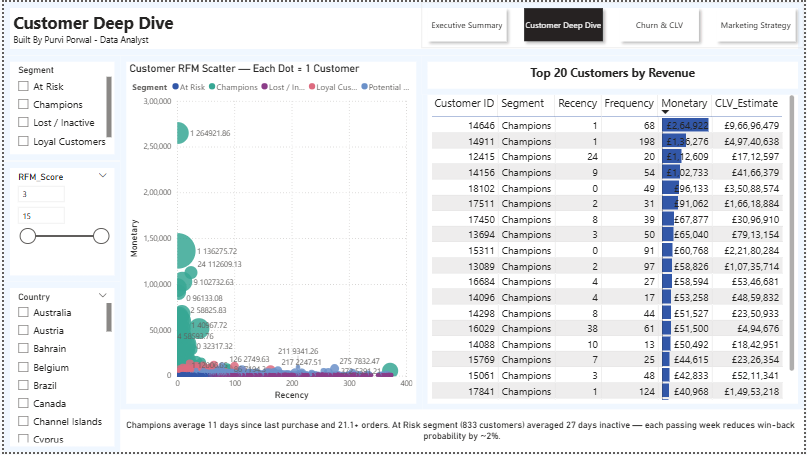

What the dashboard file says about the page in this screenshot:
{"tool":"powerbi","page":{"name":"Customer Deep Dive","canvas":[1280,720],"ordinal":1},"visuals":[{"type":"slicer","fields":{"Values":["Customer_RFM.Segment"]},"box":[0,85,186.2,167.5],"z":0},{"type":"slicer","fields":{"Values":["Customer_RFM.Country"]},"box":[0,447.5,186.2,272.5],"z":1000},{"type":"tableEx","fields":{"Values":["Customer_RFM.Customer ID","Customer_RFM.Segment","Customer_RFM.Recency","Customer_RFM.Frequency","Customer_RFM.Monetary","Customer_RFM.CLV_Estimate"]},"box":[668,134,612,518],"z":2000},{"type":"scatterChart","title":"Customer RFM Scatter — Each Dot = 1 Customer","fields":{"X":["Customer_RFM.Recency"],"Y":["Customer_RFM.Monetary"],"Series":["Customer_RFM.Segment"],"Size":["Avg(Customer_RFM.Frequency)"]},"box":[185.9,85.6,483,566.2],"z":3000},{"type":"slicer","fields":{"Values":["Customer_RFM.RFM_Score"]},"box":[0,256.2,186.2,191.2],"z":4000},{"type":"textbox","box":[668,86,612,62],"z":5000},{"type":"textbox","box":[0,0,1280,85],"z":6000},{"type":"pageNavigator","box":[667.5,0,611.2,73.8],"z":7000},{"type":"card","fields":{"Values":["Churn_Risk.Insight_Page2"]},"box":[185.9,651.8,1093.2,68.5],"z":8000}]}

Visuals, with their boxes in screenshot pixels (x1, y1, x2, y2), scaled from the page's 1280x720 canvas onto the 807x455 screenshot:
slicer - Customer_RFM.Segment: BBox(0, 54, 117, 160)
slicer - Customer_RFM.Country: BBox(0, 283, 117, 454)
tableEx - Customer_RFM.Customer ID x Customer_RFM.Segment: BBox(421, 85, 806, 412)
"Customer RFM Scatter — Each Dot = 1 Customer" scatterChart: BBox(117, 54, 422, 412)
slicer - Customer_RFM.RFM_Score: BBox(0, 162, 117, 283)
textbox: BBox(421, 54, 806, 94)
textbox: BBox(0, 0, 806, 54)
pageNavigator: BBox(421, 0, 806, 47)
card - Churn_Risk.Insight_Page2: BBox(117, 412, 806, 454)
